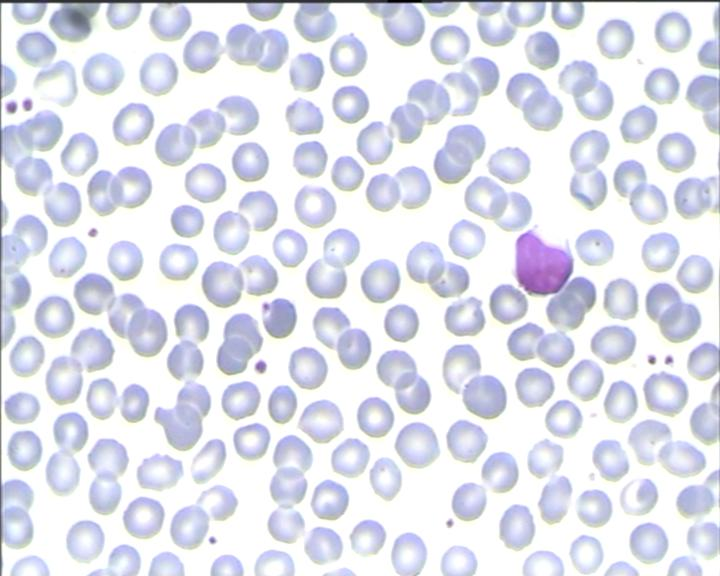lymp: (508, 213, 578, 300)
